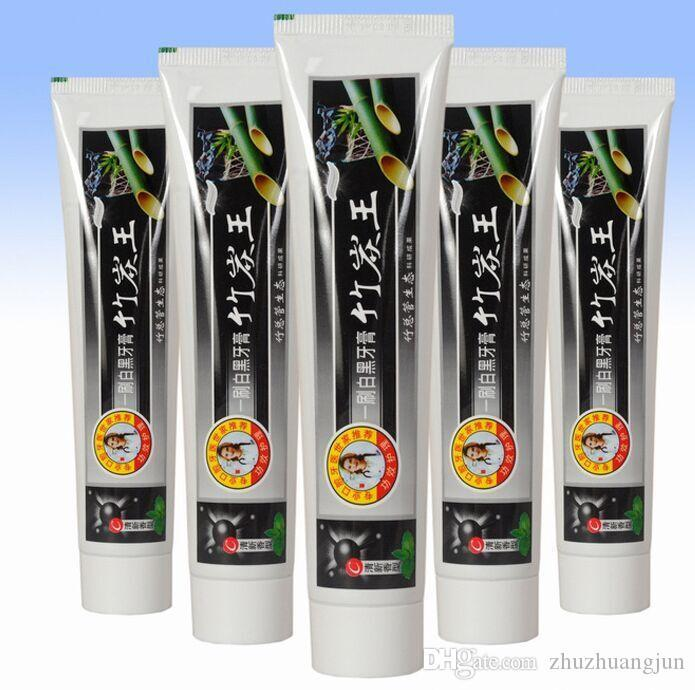toothpaste: (273, 5, 451, 679), (407, 31, 568, 653), (151, 38, 304, 650), (51, 69, 182, 621), (559, 56, 677, 624)
